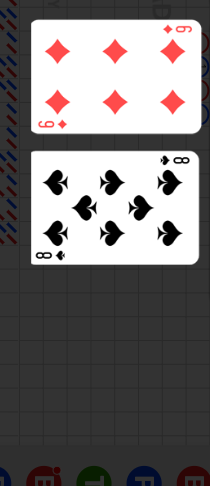10S: (35, 248, 68, 261)
6D: (161, 23, 194, 35)
